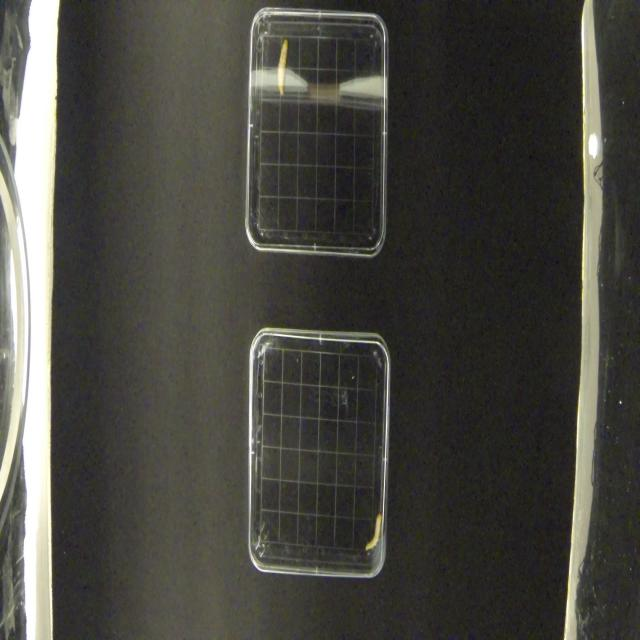larva: (275, 32, 293, 98), (365, 509, 382, 554)
